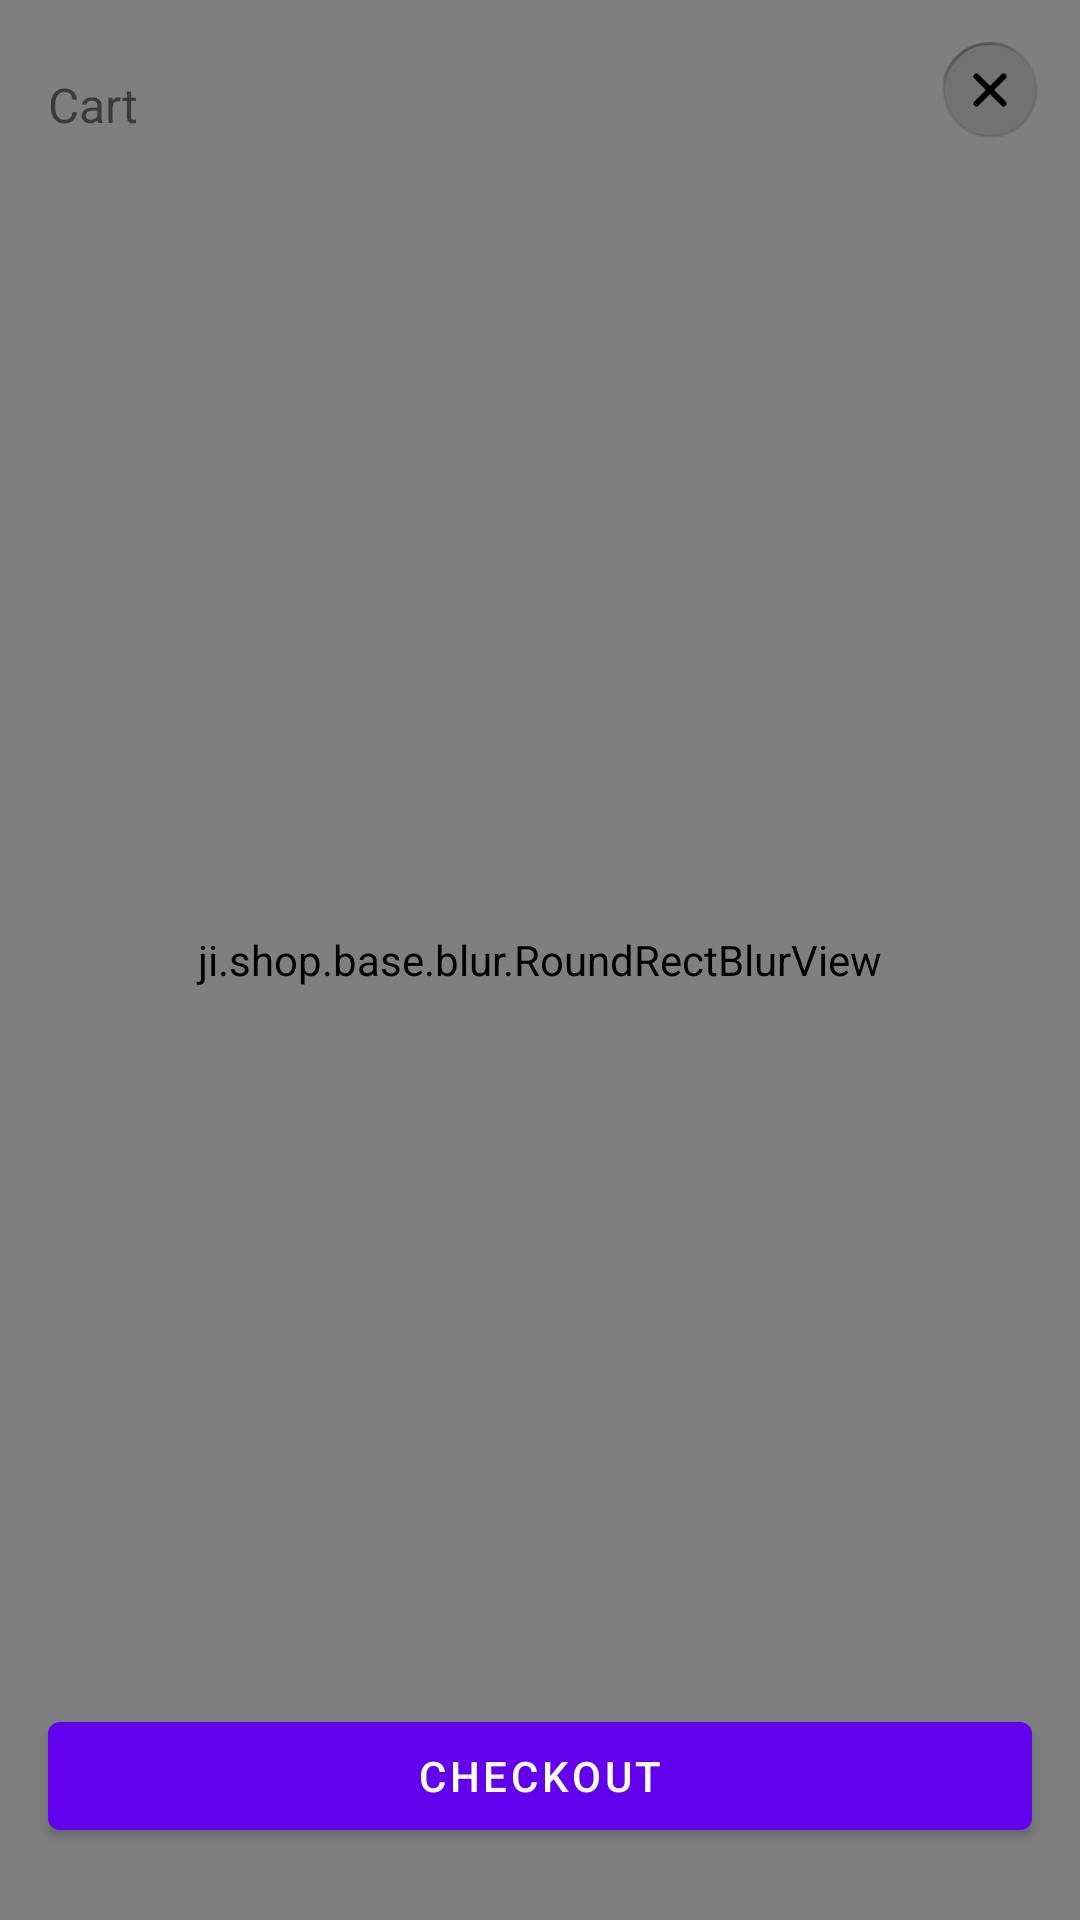

Icon bounding boxes for this 1080px×1920px phone screenshot, format (x1, y1, x2, y2):
close: (942, 42, 1037, 138)
